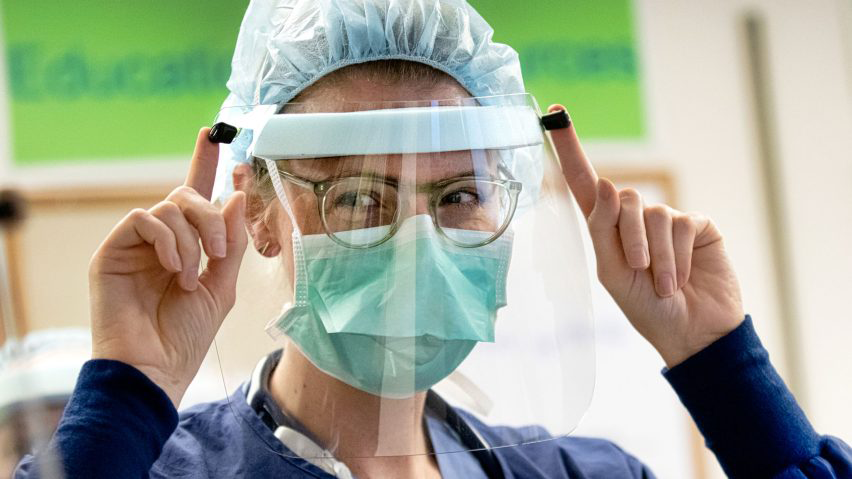Face_Shield: (211, 94, 600, 461)
with_mask: (279, 184, 522, 401)
